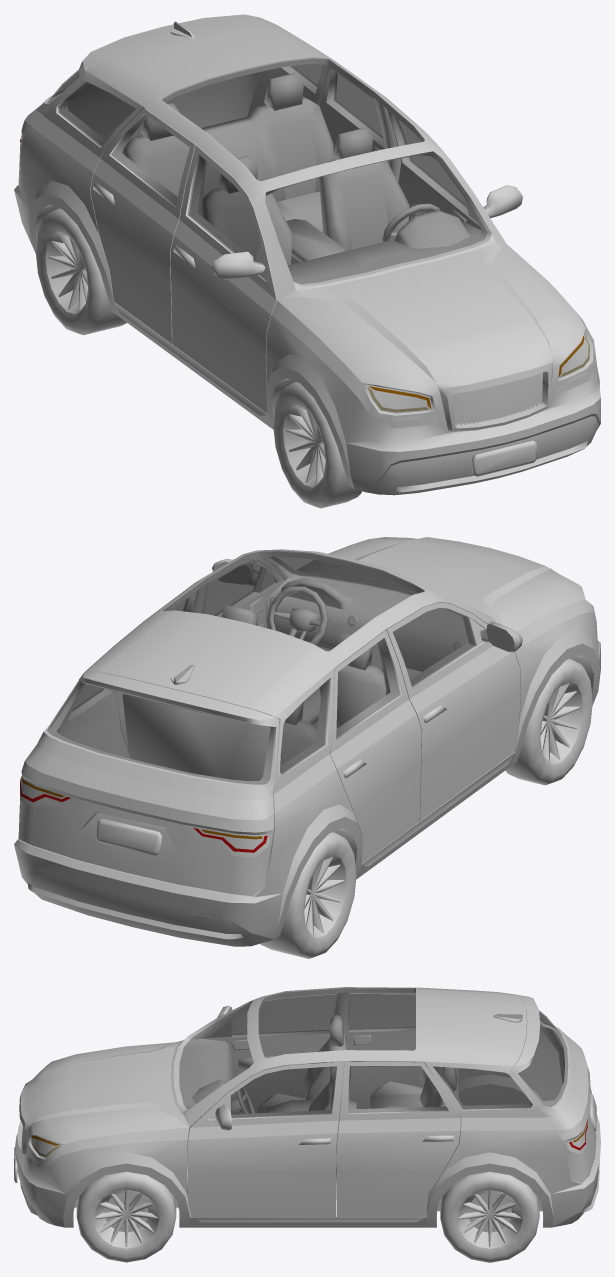
Rendered from TP_SUV_01A.fbx.
3 renders of one model, top to bottom at view 1: azimuth 30°, elevation 25°; view 2: azimuth 150°, elevation 25°; view 3: azimuth 270°, elevation 25°, orthographic. The views are drawn at different scales.
Visible parts, largest first — view 1: TP_SUV_01A_Body, TP_SUV_01A_Door_F.R, TP_SUV_01A_Door_R.R, TP_SUV_01A_Trunk, TP_SUV_01A_Wheel_R.R, TP_SUV_01A_Wheel_F.R, TP_SUV_01A_Door_F.L, TP_SUV_01A_Door_R.L; view 2: TP_SUV_01A_Body, TP_SUV_01A_Trunk, TP_SUV_01A_Door_F.R, TP_SUV_01A_Door_R.R, TP_SUV_01A_Wheel_R.R, TP_SUV_01A_Wheel_F.R, TP_SUV_01A_Door_F.L, TP_SUV_01A_Steering_Wheel, TP_SUV_01A_Door_R.L; view 3: TP_SUV_01A_Body, TP_SUV_01A_Door_F.L, TP_SUV_01A_Door_R.L, TP_SUV_01A_Trunk, TP_SUV_01A_Door_F.R, TP_SUV_01A_Wheel_R.L, TP_SUV_01A_Wheel_F.L, TP_SUV_01A_Door_R.R, TP_SUV_01A_Steering_Wheel.
Part boxes in pixels (x1,y1,x2,y2): TP_SUV_01A_Body: (14,17,600,495); TP_SUV_01A_Door_F.R: (170,145,276,413); TP_SUV_01A_Door_R.R: (90,108,196,343); TP_SUV_01A_Trunk: (18,14,273,184); TP_SUV_01A_Wheel_R.R: (35,208,126,335); TP_SUV_01A_Wheel_F.R: (273,382,361,508); TP_SUV_01A_Door_F.L: (386,109,522,229); TP_SUV_01A_Door_R.L: (319,66,384,159); TP_SUV_01A_Body: (14,537,600,946); TP_SUV_01A_Trunk: (18,670,279,896); TP_SUV_01A_Door_F.R: (385,602,522,820); TP_SUV_01A_Door_R.R: (329,630,421,863); TP_SUV_01A_Wheel_R.R: (260,832,356,958); TP_SUV_01A_Wheel_F.R: (505,658,592,785); TP_SUV_01A_Door_F.L: (204,558,284,627); TP_SUV_01A_Steering_Wheel: (267,586,328,645); TP_SUV_01A_Door_R.L: (116,591,196,752); TP_SUV_01A_Body: (14,987,600,1227); TP_SUV_01A_Door_F.L: (187,1061,343,1216); TP_SUV_01A_Door_R.L: (337,1061,460,1216); TP_SUV_01A_Trunk: (510,995,596,1182); TP_SUV_01A_Door_F.R: (200,994,337,1113); TP_SUV_01A_Wheel_R.L: (440,1171,539,1262); TP_SUV_01A_Wheel_F.L: (76,1171,176,1262); TP_SUV_01A_Door_R.R: (346,993,424,1108); TP_SUV_01A_Steering_Wheel: (232,1087,254,1113).
Size of the model in its own units: 2.4 by 2 by 5.2.
